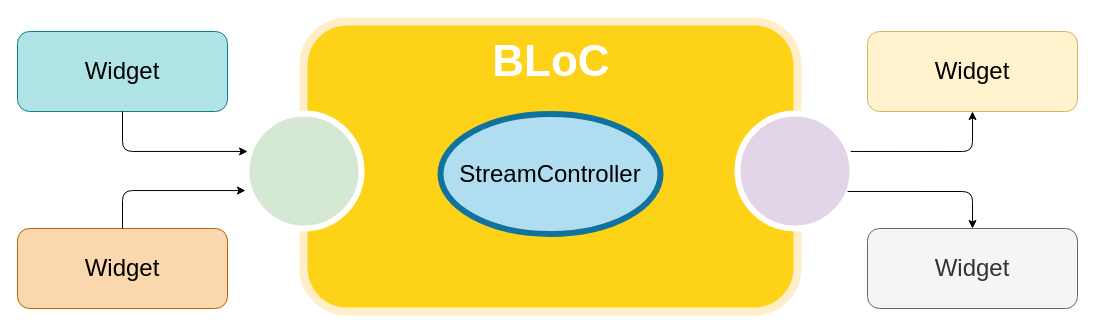
The diagram is 1095 pixels wide and 332 high, and some of its shapes have lost their labels. Here are the shapes that lost their labels. From the top down, the centre of each, then its label:
point (303, 170): Sink
point (794, 170): Stream
